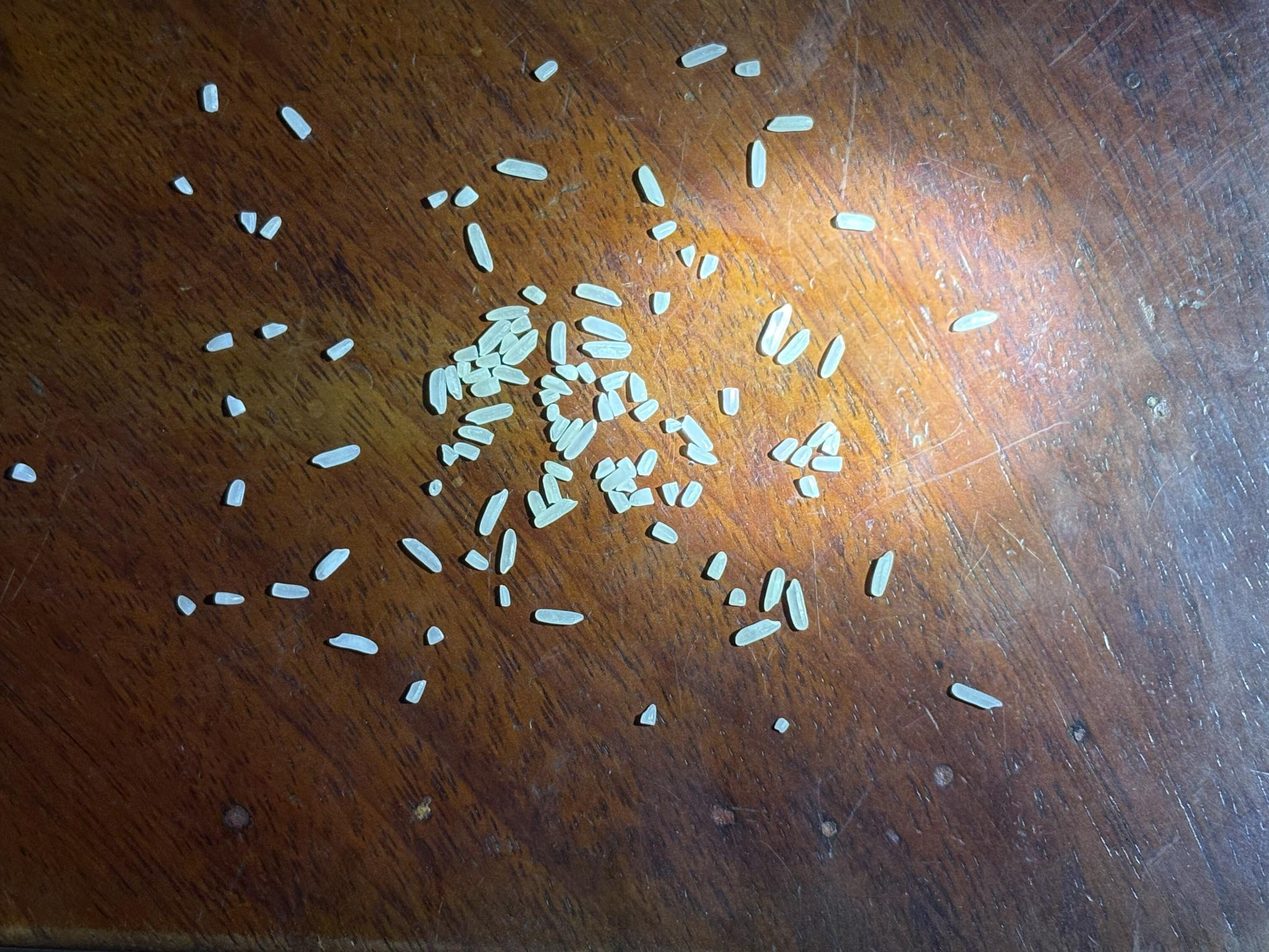Rice-th-y-nh: (755, 302, 797, 358), (950, 676, 1003, 717), (735, 612, 781, 654), (496, 150, 548, 187), (779, 578, 814, 632), (462, 221, 498, 273), (475, 487, 512, 537), (534, 492, 578, 534), (951, 302, 999, 340), (576, 275, 622, 314), (680, 36, 727, 74), (465, 396, 514, 432), (329, 626, 379, 661), (581, 309, 627, 347), (563, 417, 600, 464), (582, 334, 632, 368), (815, 333, 850, 381), (866, 549, 900, 598), (775, 326, 813, 369), (400, 536, 444, 573), (534, 601, 584, 633), (757, 566, 791, 613), (634, 164, 669, 209), (767, 108, 815, 140), (423, 367, 454, 415), (503, 329, 540, 368), (835, 205, 876, 239), (744, 140, 773, 188), (542, 320, 572, 366), (680, 413, 715, 452), (494, 528, 523, 575), (477, 318, 511, 358), (312, 443, 361, 469), (486, 299, 530, 327), (313, 548, 350, 581), (552, 417, 584, 453), (493, 359, 529, 390), (271, 577, 310, 605), (281, 105, 312, 139), (805, 420, 837, 451), (456, 422, 495, 447), (539, 471, 566, 507), (599, 465, 630, 496), (598, 366, 629, 397), (683, 442, 718, 469), (811, 450, 844, 478), (625, 371, 652, 404), (718, 384, 744, 417), (540, 372, 574, 397), (651, 518, 679, 548), (705, 550, 731, 582), (632, 396, 661, 424), (603, 388, 630, 418), (635, 447, 661, 478), (679, 478, 705, 509), (470, 375, 502, 400), (605, 488, 633, 516), (628, 483, 656, 511), (443, 364, 464, 401), (542, 459, 574, 483), (734, 55, 762, 82), (547, 413, 571, 444), (594, 392, 617, 424), (651, 217, 678, 244), (771, 436, 798, 462), (797, 473, 823, 500), (820, 429, 845, 457), (697, 252, 721, 281), (404, 677, 428, 706), (525, 488, 548, 518), (659, 478, 682, 507), (789, 443, 814, 469), (649, 289, 673, 316), (593, 456, 617, 482), (575, 360, 599, 386), (461, 366, 492, 386), (453, 440, 481, 462), (326, 338, 354, 360), (616, 454, 639, 480), (454, 185, 480, 208), (225, 479, 246, 507), (510, 313, 534, 337), (213, 589, 245, 607), (521, 284, 547, 306), (464, 549, 490, 571), (475, 351, 502, 372), (452, 344, 480, 364), (206, 332, 234, 352), (534, 59, 558, 82), (260, 215, 282, 240), (678, 243, 699, 269), (498, 332, 520, 356), (424, 624, 446, 648), (615, 475, 640, 496), (660, 414, 683, 436), (727, 586, 749, 609), (439, 443, 460, 467), (555, 362, 580, 382), (11, 463, 37, 482), (261, 322, 288, 340), (176, 594, 198, 616), (639, 703, 659, 727), (202, 84, 219, 112), (427, 189, 449, 210), (226, 395, 247, 417), (538, 387, 561, 407), (496, 584, 513, 608), (240, 211, 257, 233), (545, 402, 562, 423), (174, 177, 193, 195), (773, 716, 791, 735), (455, 360, 472, 380), (428, 478, 444, 497)
